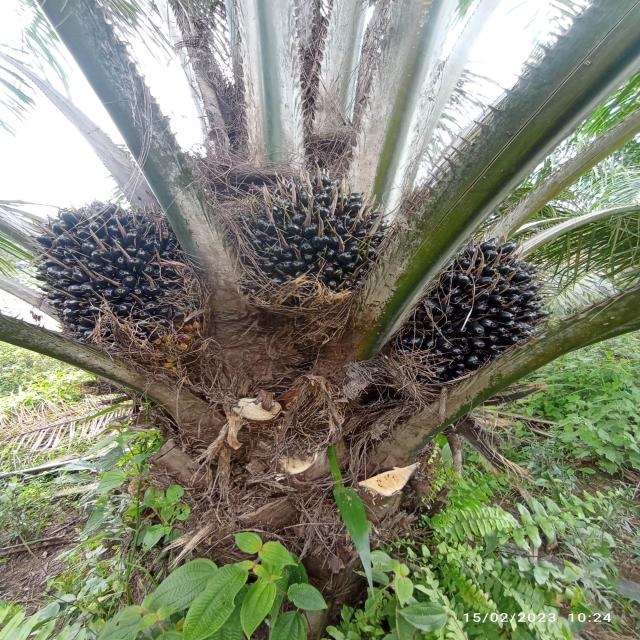fraksi 00: (217, 153, 407, 317), (22, 186, 196, 364), (405, 219, 570, 388)
